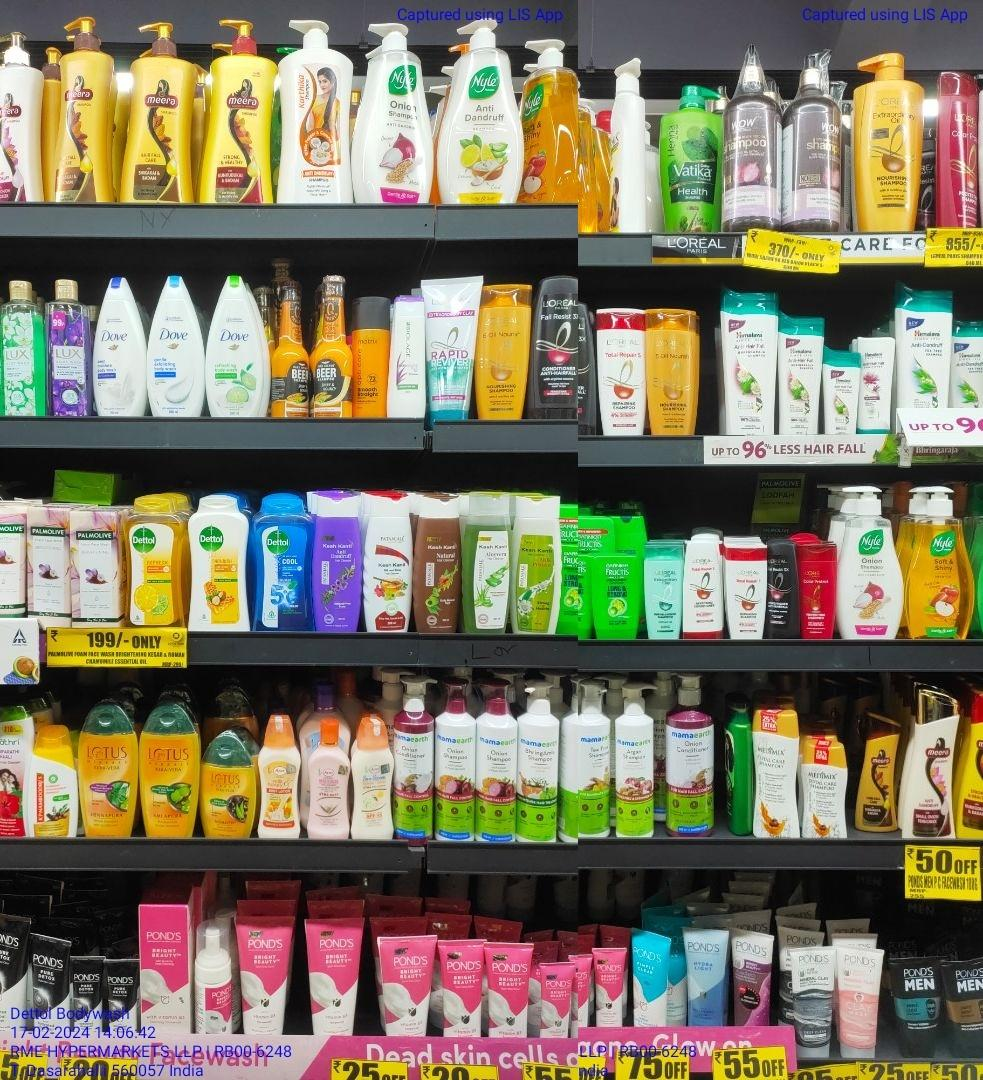Dettol_Bodywash_Cool: (253, 497, 309, 629)
Dettol_Bodywash_Refresh: (123, 499, 180, 628)
Dettol_Nourish_Body_Wash_250ML: (189, 500, 249, 633)
Dove_Deep_Moisture_Body_Wash_250ML: (93, 277, 147, 416)
Dove_Gentle_Exfoliating_Body_Wash_250ML: (149, 277, 205, 416)
Dove_Refreshing_Body_Wash_250ML: (207, 276, 265, 418)
Lux_Black_Orchid_Scent_and_Juniper_Oil_Body_Wash_245ML: (47, 280, 90, 416)
Lux_Body_Wash_Skin_Detox_Freesia_Scent_and_Alove_Vera_245ML: (0, 280, 41, 416)
